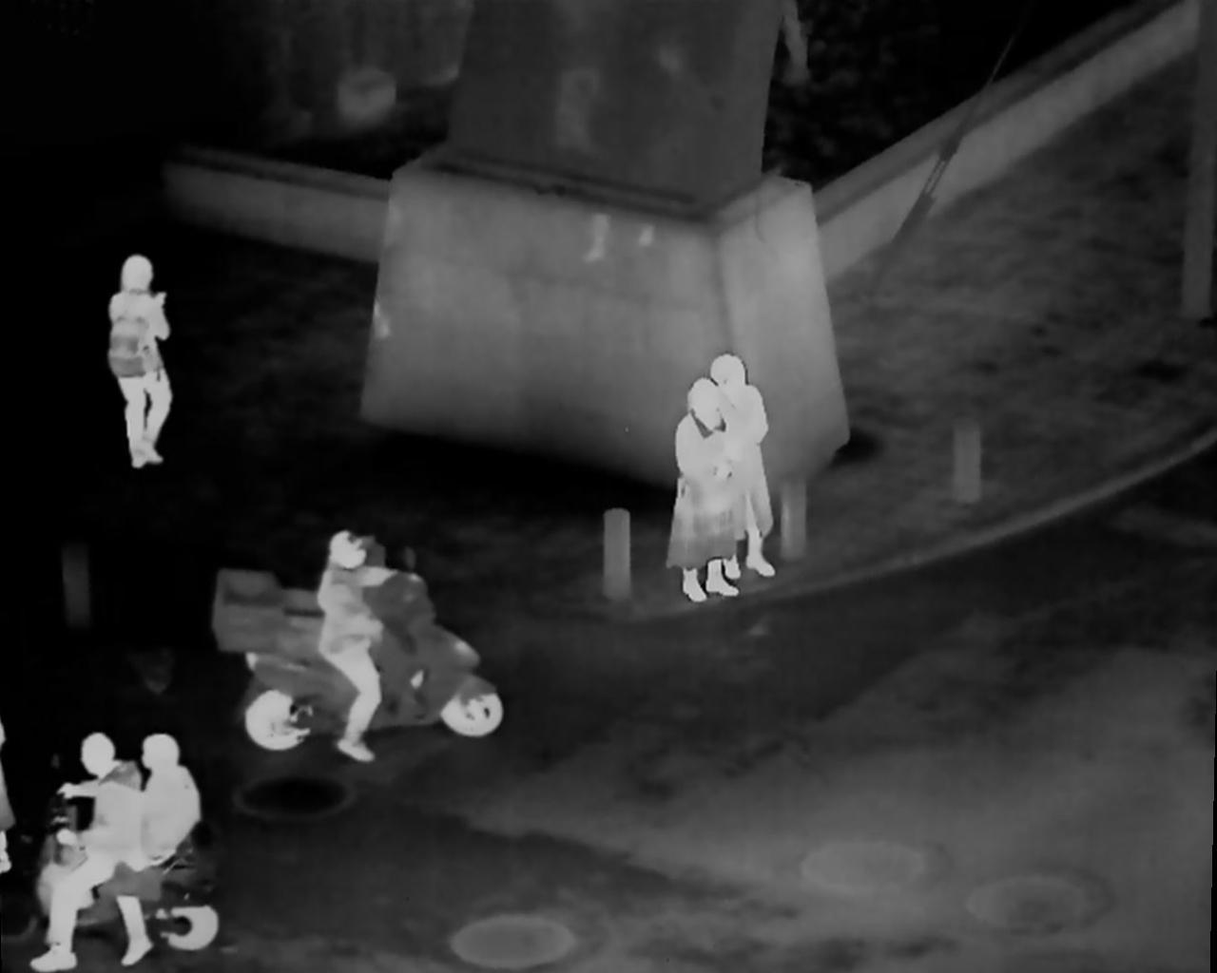person: (35, 732, 142, 973), (115, 735, 202, 967), (319, 530, 393, 769), (667, 372, 738, 601), (106, 255, 177, 473), (707, 356, 771, 585)
